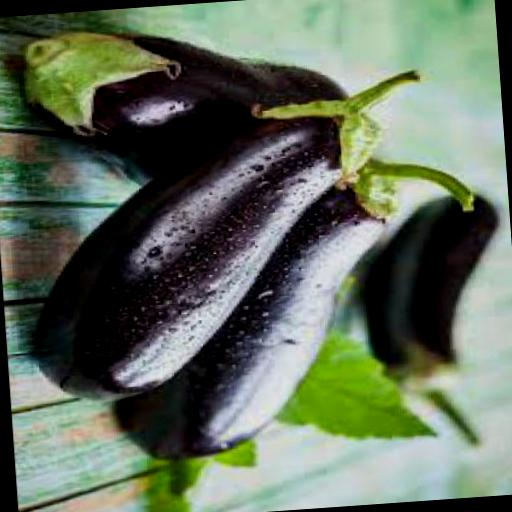biodegradable: (16, 70, 446, 408), (104, 152, 497, 466), (18, 14, 358, 196), (363, 193, 512, 457), (268, 322, 441, 450), (144, 458, 211, 512), (215, 440, 261, 470)
